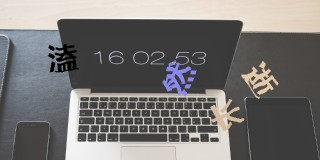溘: (46, 41, 79, 74)
然: (162, 59, 197, 97)
逝: (241, 60, 280, 100)
长: (210, 98, 246, 130)
